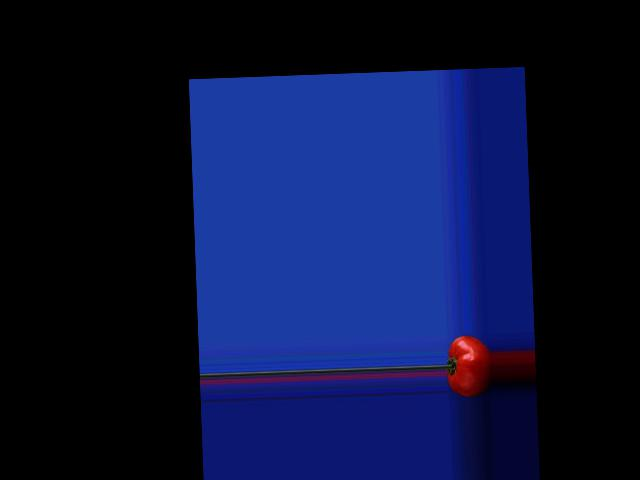tomato: (445, 335, 492, 398)
